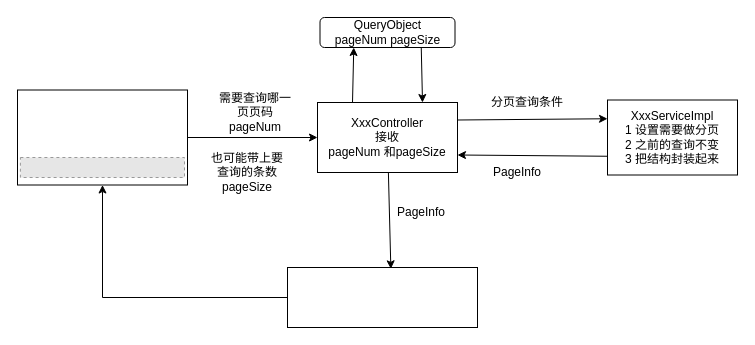
Image size: 755x345. Some labels were removed from this diagram. Grey dashed boxes stand in for pictures. The shapes that lost their labels are listed below. From the top down, each one's box as (x1, y1, x2, y2) in pixels, then its label:
(16, 89, 188, 185): 浏览器
(286, 266, 478, 328): list.jsp 1、从pageInfo中获取列表展示 2、 把分页相关页面设置到分页条
